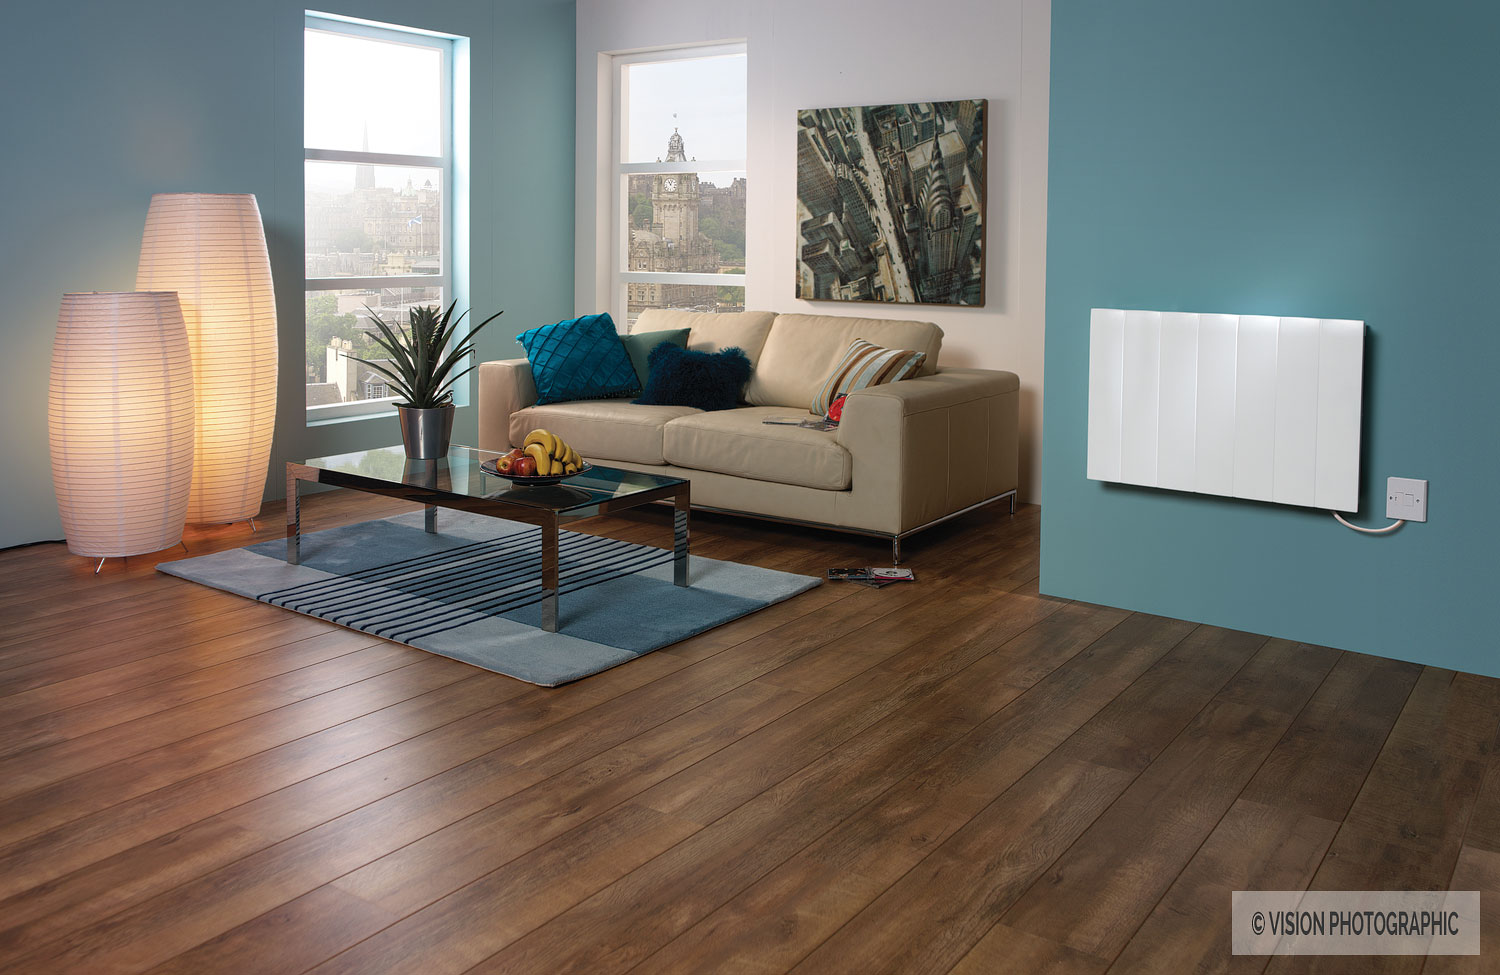chair: (477, 315, 1026, 564)
